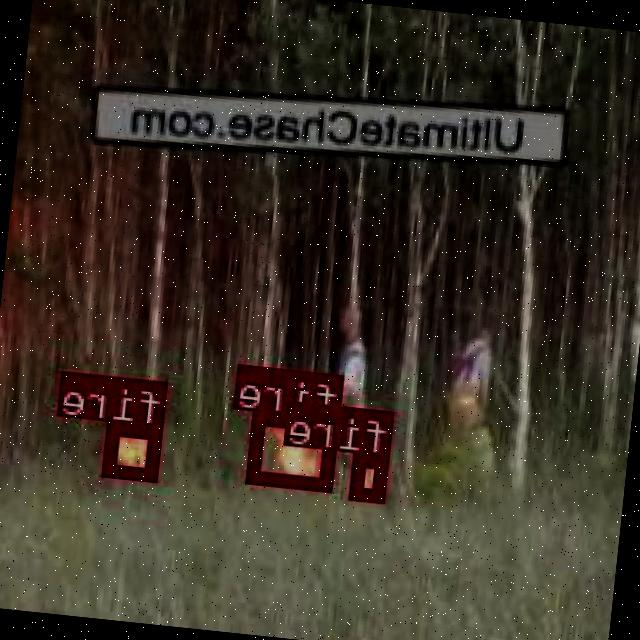fire: (249, 410, 340, 488), (105, 420, 163, 478), (352, 452, 390, 500)
